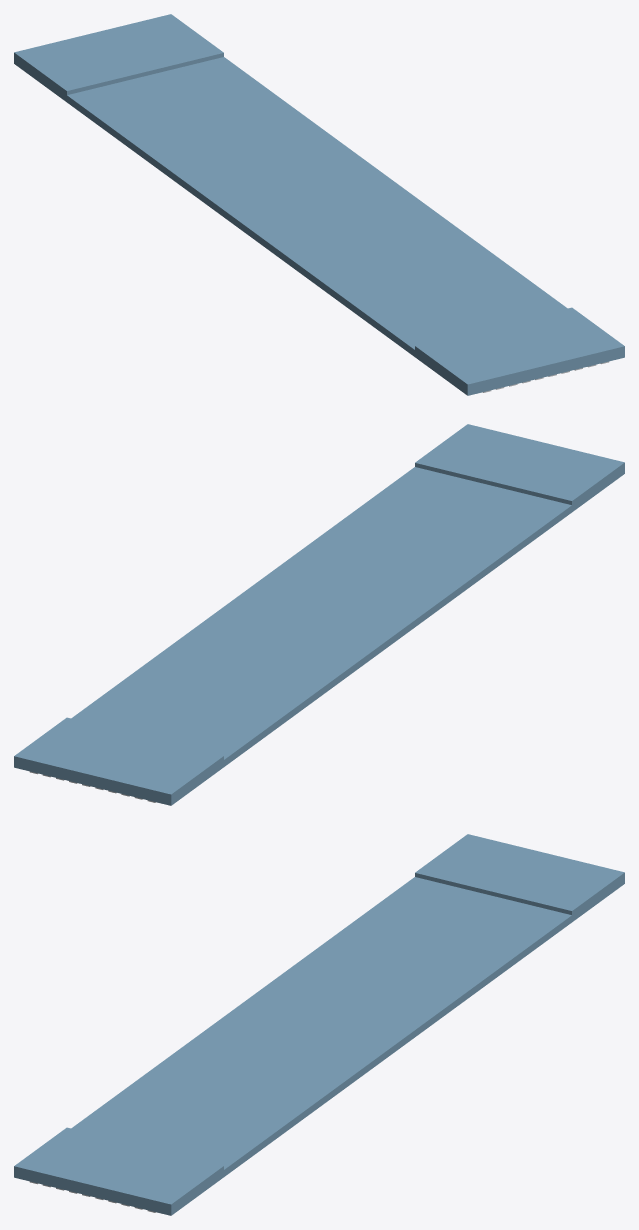
File: ffc_05mm_10p_same_side.glb
The picture shows the model from 3 angles, top to bottom: view 1: azimuth 30°, elevation 25°; view 2: azimuth 150°, elevation 25°; view 3: azimuth 330°, elevation 25°; orthographic projection.
Parts seen in each view (by area): view 1: film; view 2: film; view 3: film.
Part boxes in pixels (x1,y1,x2,y2): film: (14,14,624,395); film: (14,424,624,805); film: (14,834,624,1215).
Size of the model in its own units: 0.006 by 0.00045 by 0.03.
